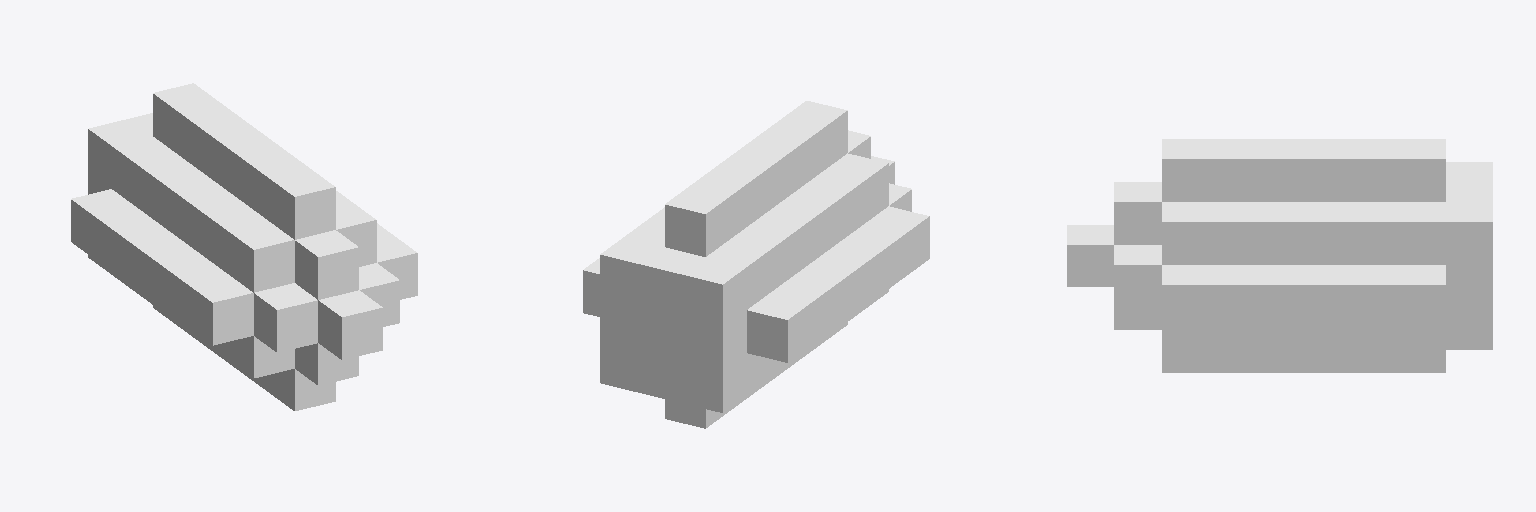
The model's file is spaceship_bullet.obj.
3 views of the same model, side by side, from view 1: azimuth 30°, elevation 25°; view 2: azimuth 150°, elevation 25°; view 3: azimuth 270°, elevation 25° (orthographic).
Parts seen in each view (by area): view 1: object 1; view 2: object 1; view 3: object 1.
Boxes of the visible parts, x1=… form: object 1: x1=71, y1=83, x2=417, y2=410; object 1: x1=583, y1=101, x2=929, y2=428; object 1: x1=1067, y1=139, x2=1492, y2=372.
Bounding box in the file's own units: 0.5 × 0.5 × 0.9.